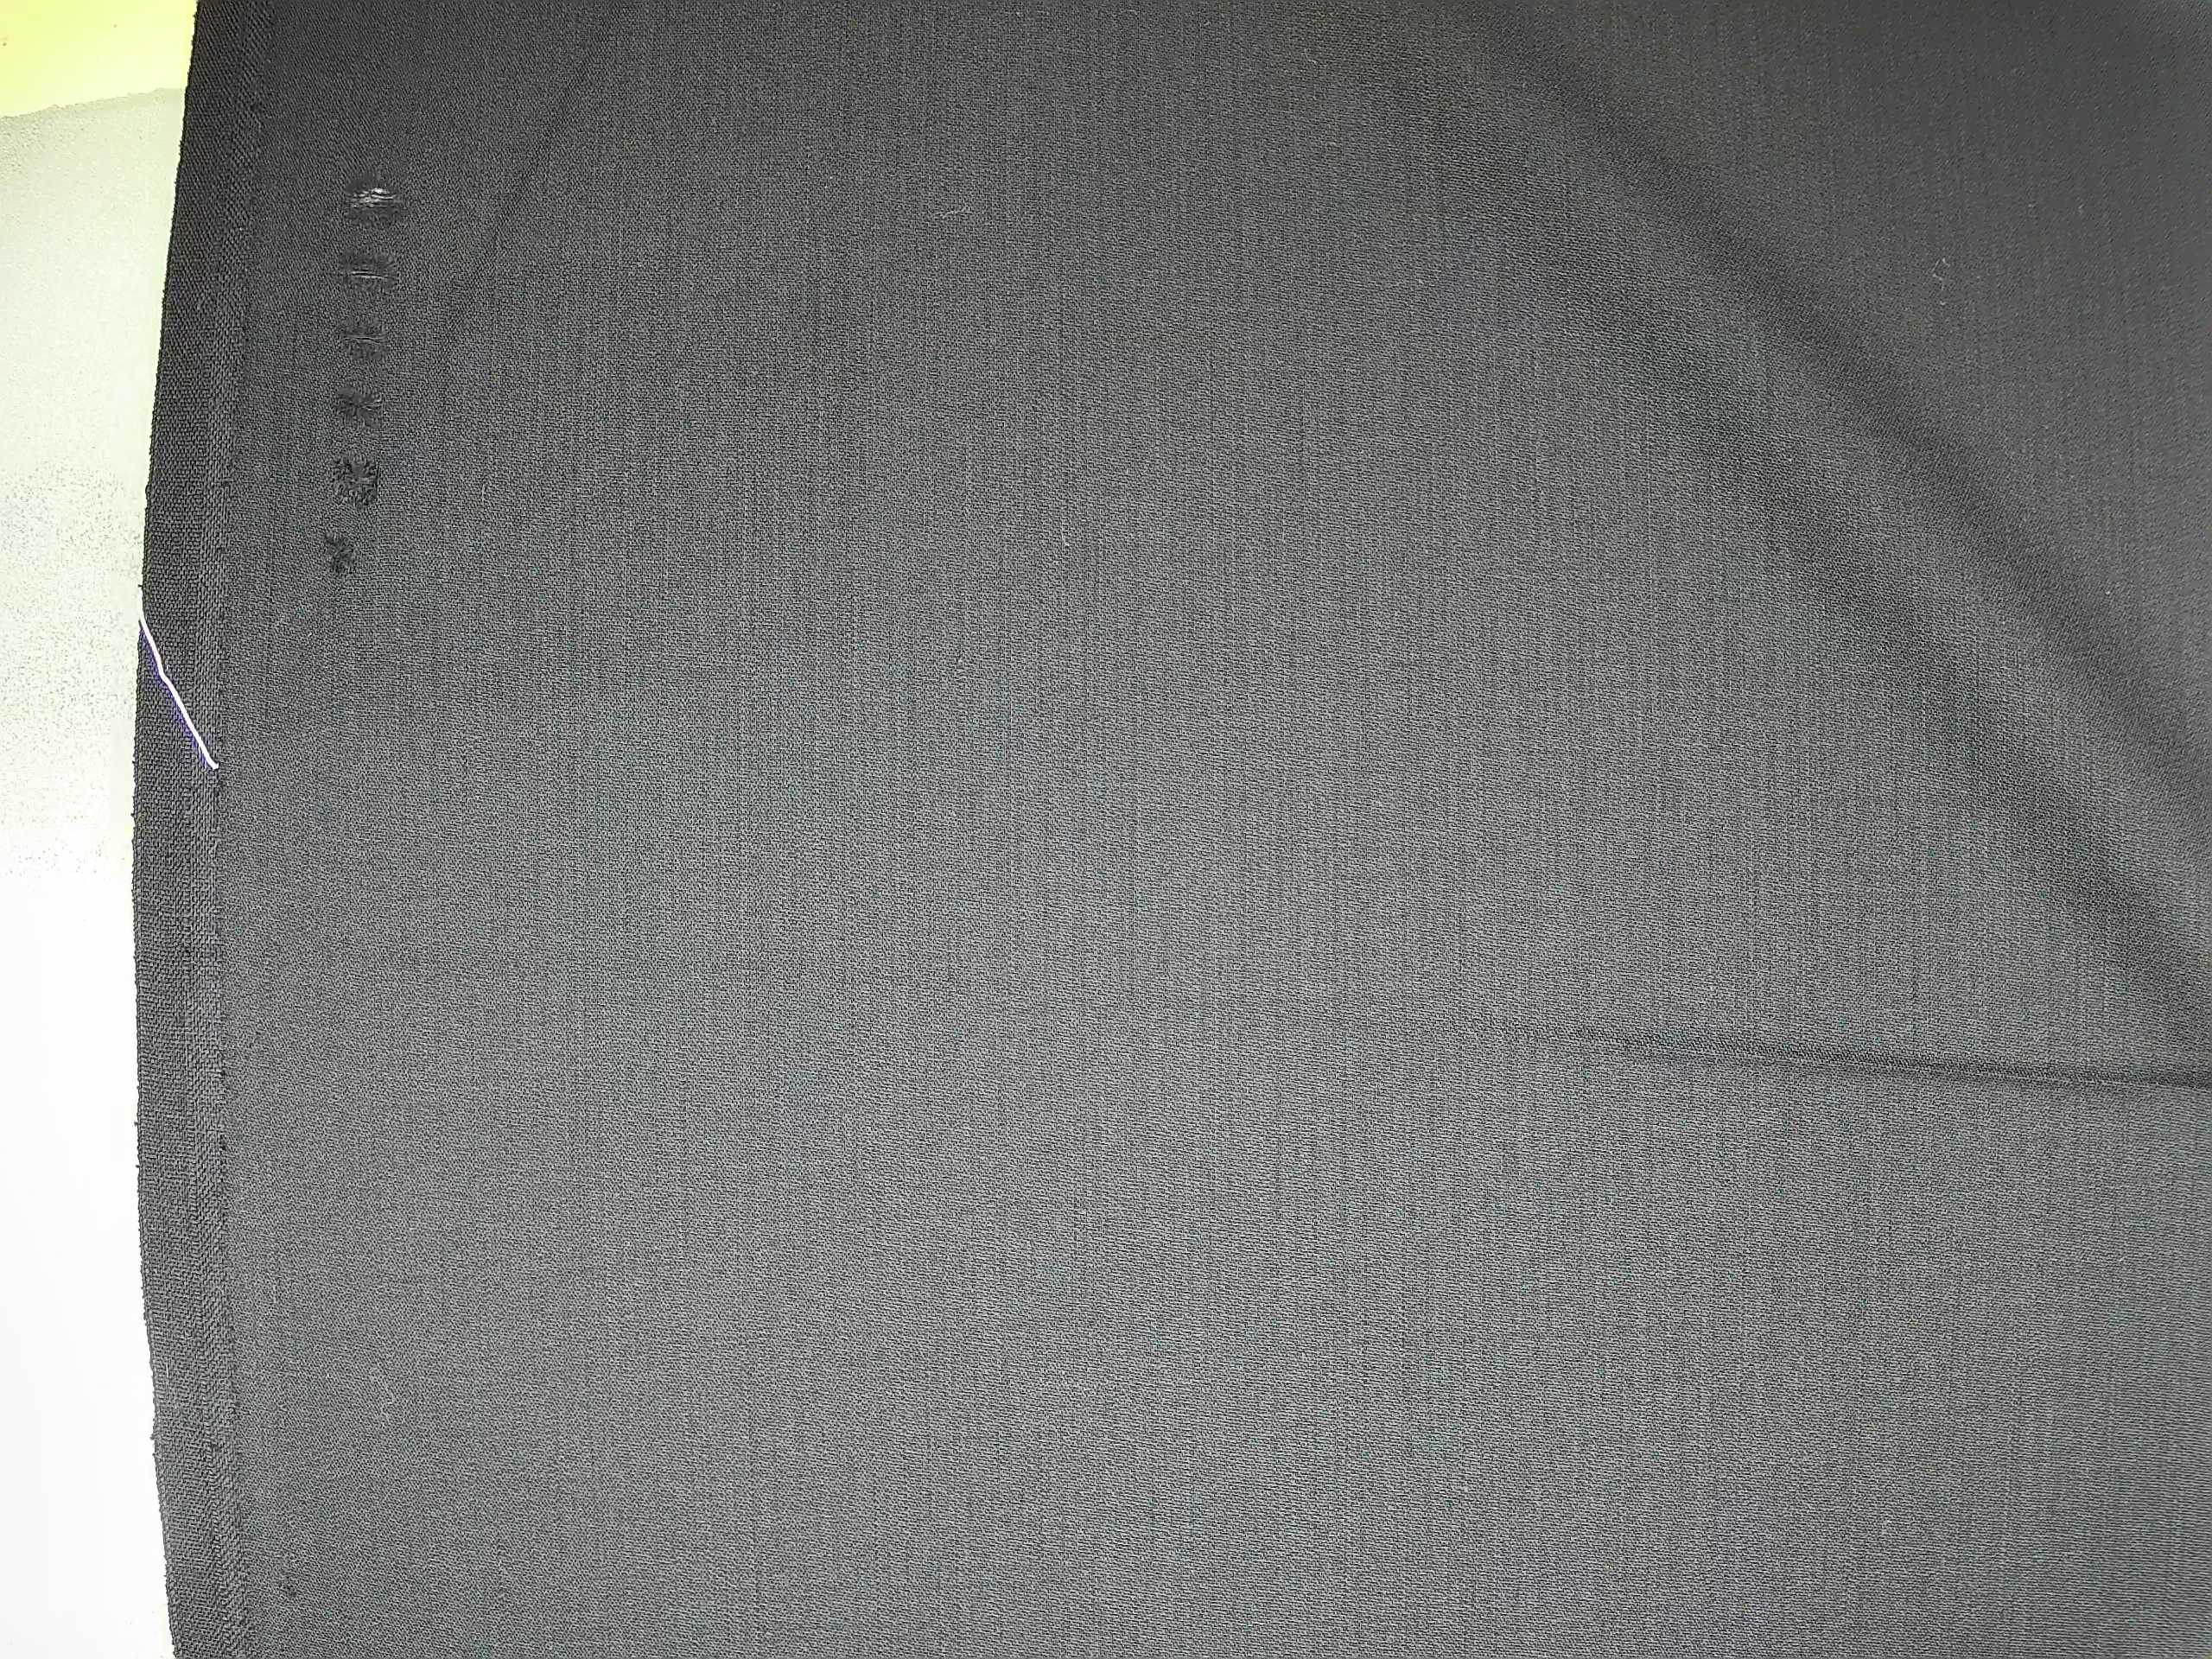rubbing-hole: (296, 160, 434, 599)
